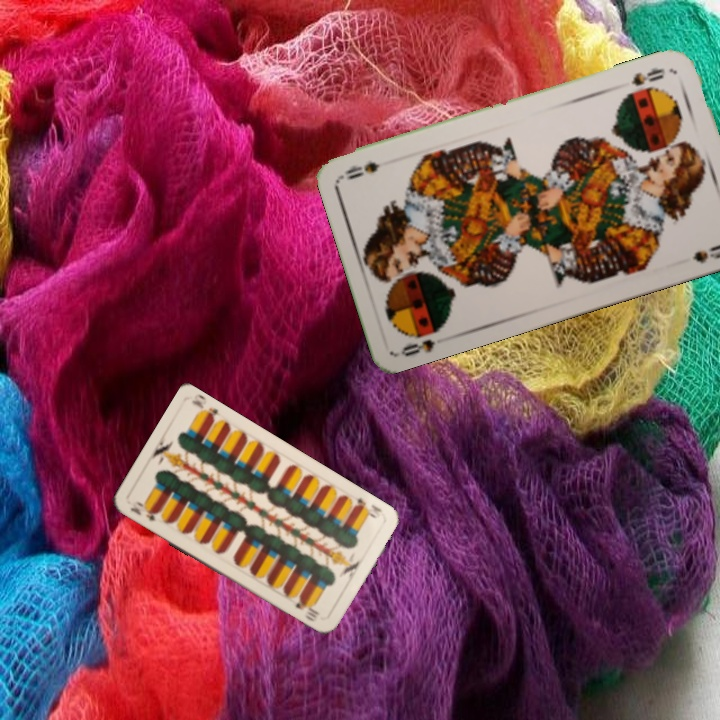E10: (350, 493, 384, 521), (126, 497, 160, 524)
SO: (627, 64, 667, 89), (397, 335, 438, 359)
